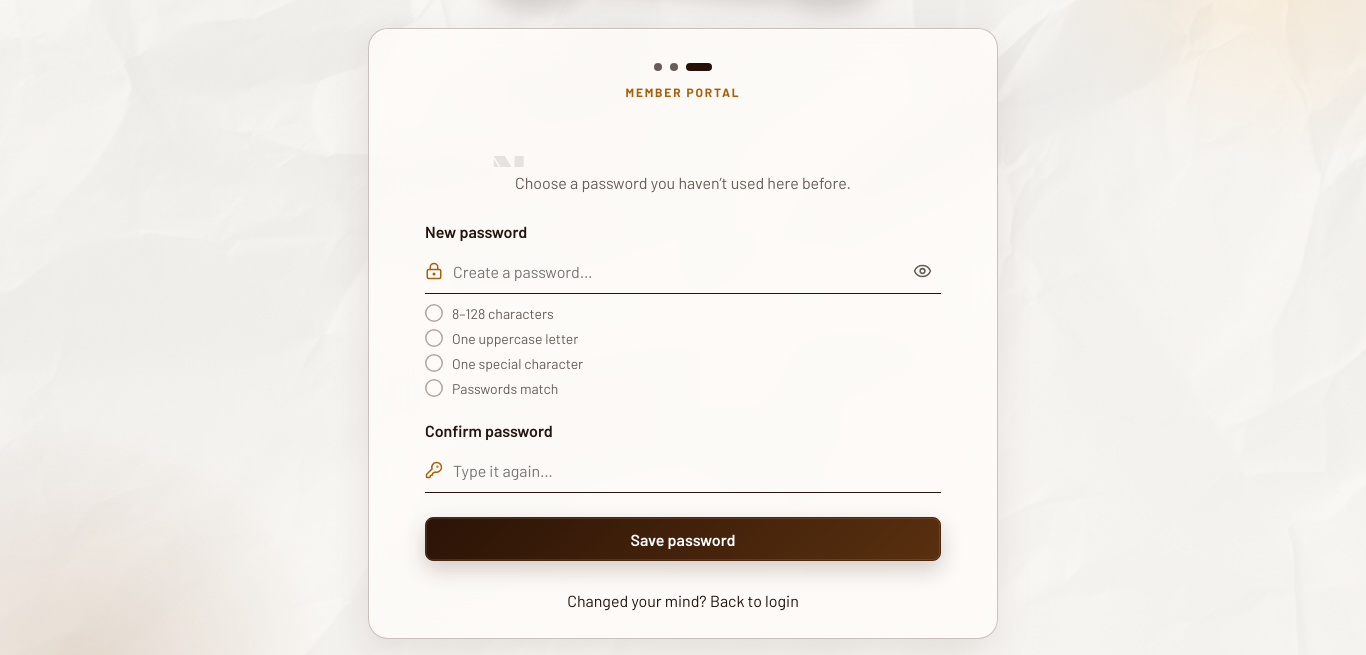
Test: rules tick live and one eye button reveals and hides both passwords
(page scrolled)
Expected: the button "Save password" is enabled, [425, 517, 941, 561]
In the password field with placeholder "Create a password…": (673, 271) [453, 249, 893, 293], type "Workshop!"
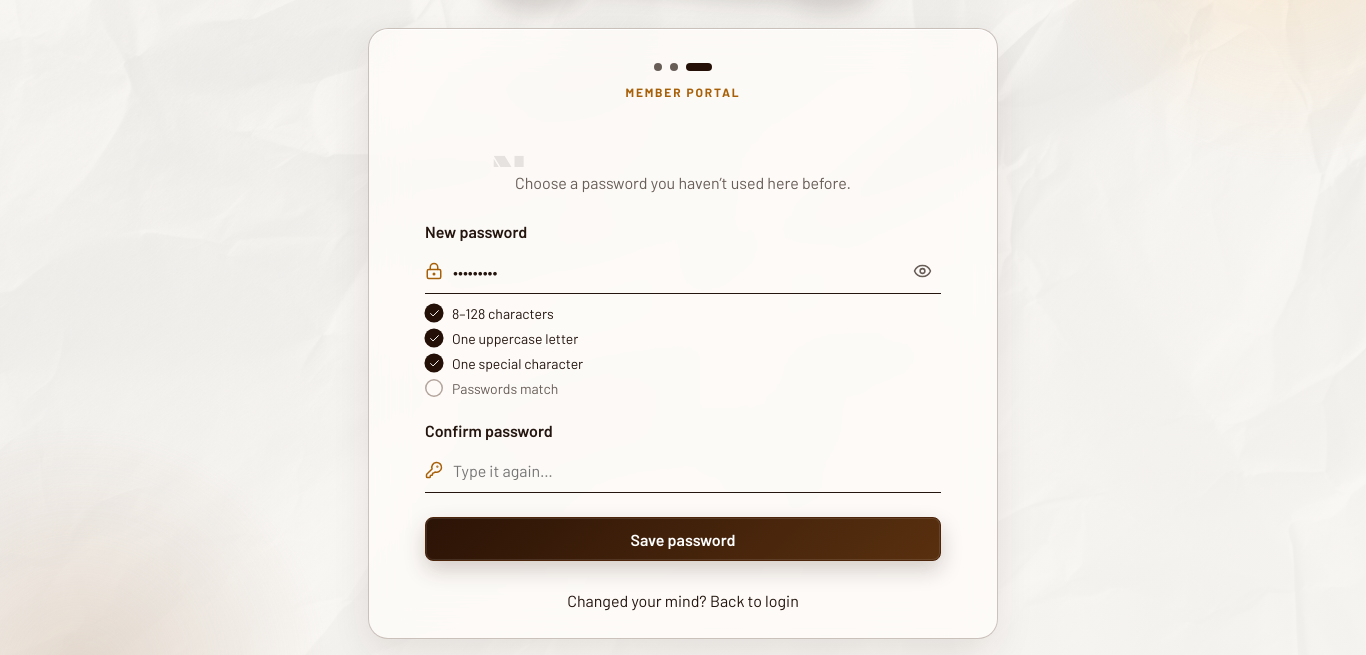
In the password field with placeholder "Type it again…": (692, 470) [453, 448, 931, 492], type "Workshop!"
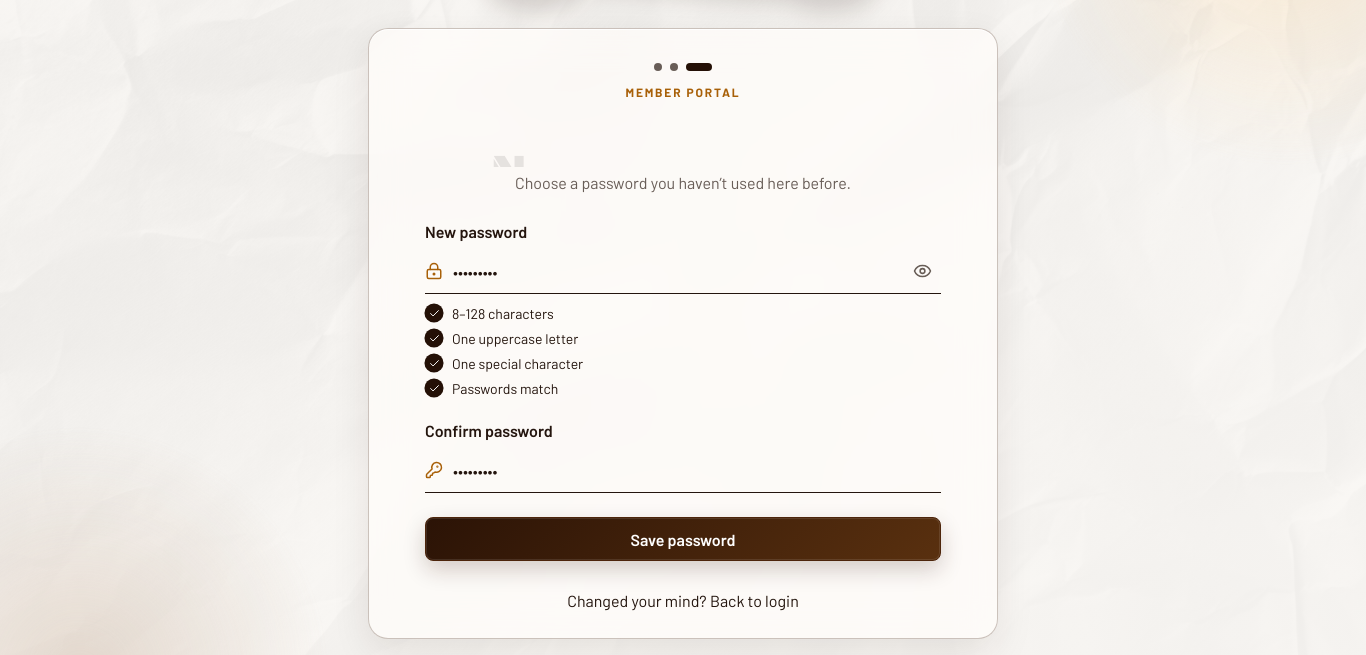
Click the button named "Show password": (922, 271) [903, 249, 941, 293]
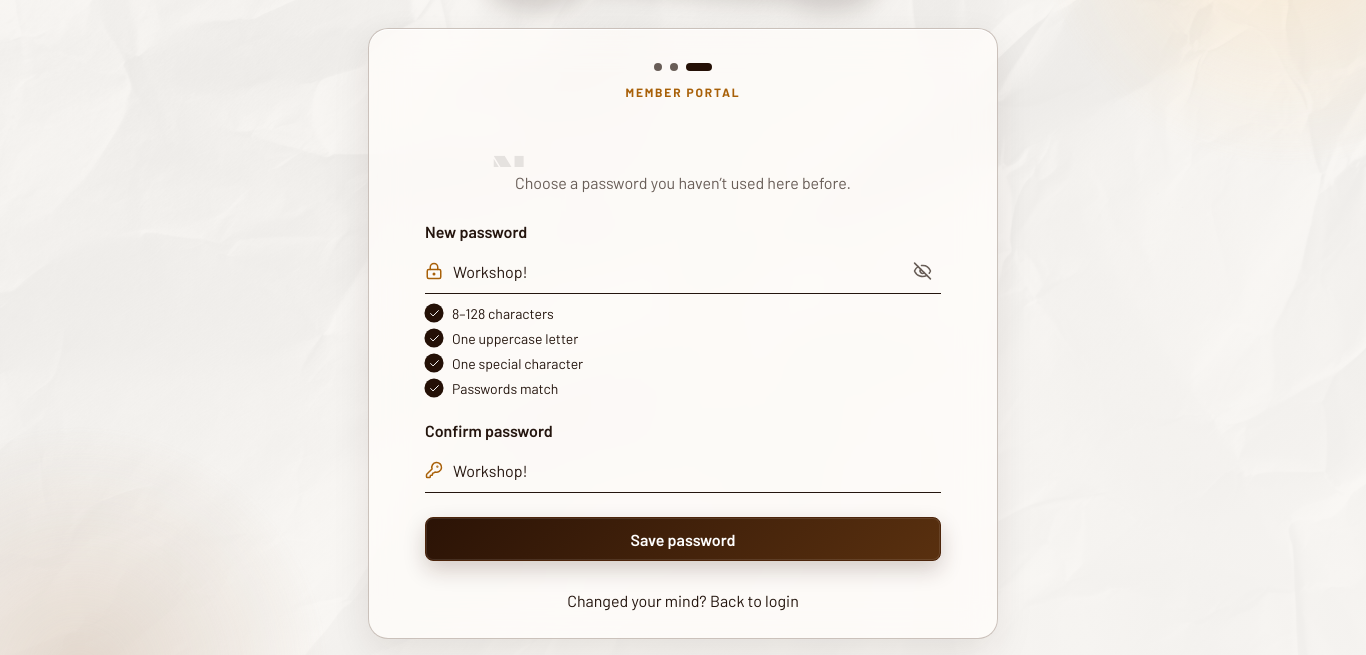
Result: the field with placeholder "Create a password…" shows its text at [453, 249, 893, 293]
Result: the field with placeholder "Type it again…" shows its text at [453, 448, 931, 492]
Click the button named "Hide password": (922, 271) [903, 249, 941, 293]
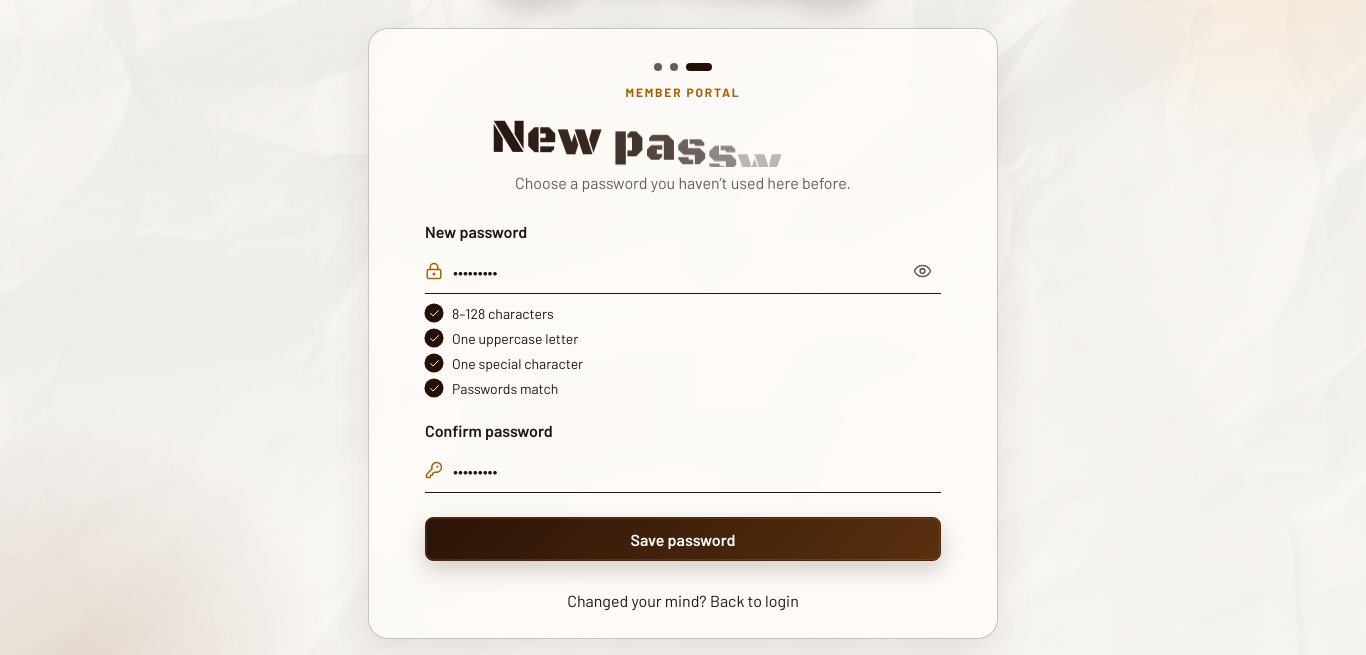
Result: the password field with placeholder "Type it again…" hides its text at [453, 448, 931, 492]
